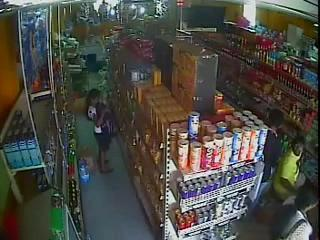shoplifting: (86, 90, 116, 175)
